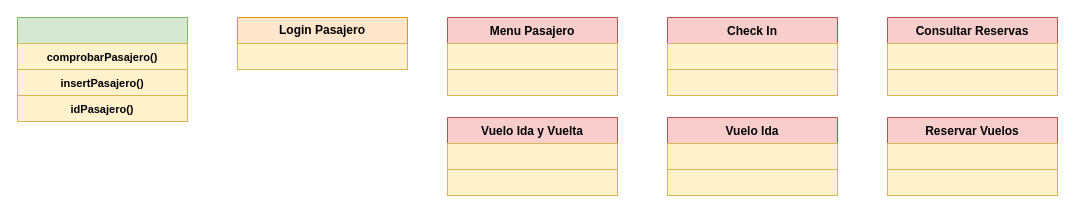
The diagram is 1075 pixels wide and 213 high, and some of its shapes have lost their labels. The box of each missing label's shape, as (x1, y1, x2, y2) in pixels:
login(): (236, 42, 408, 70)
Registro Pasajero: (16, 16, 188, 122)
